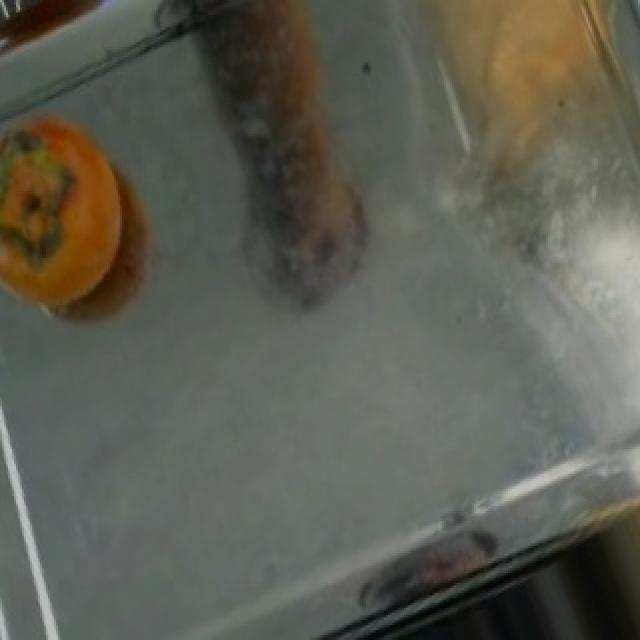Fruit: (0, 95, 150, 338), (0, 0, 142, 67)
